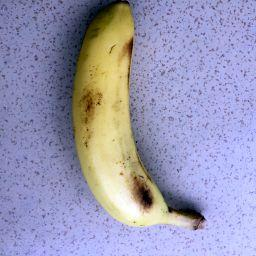Banana Ripe: (60, 1, 215, 236)
